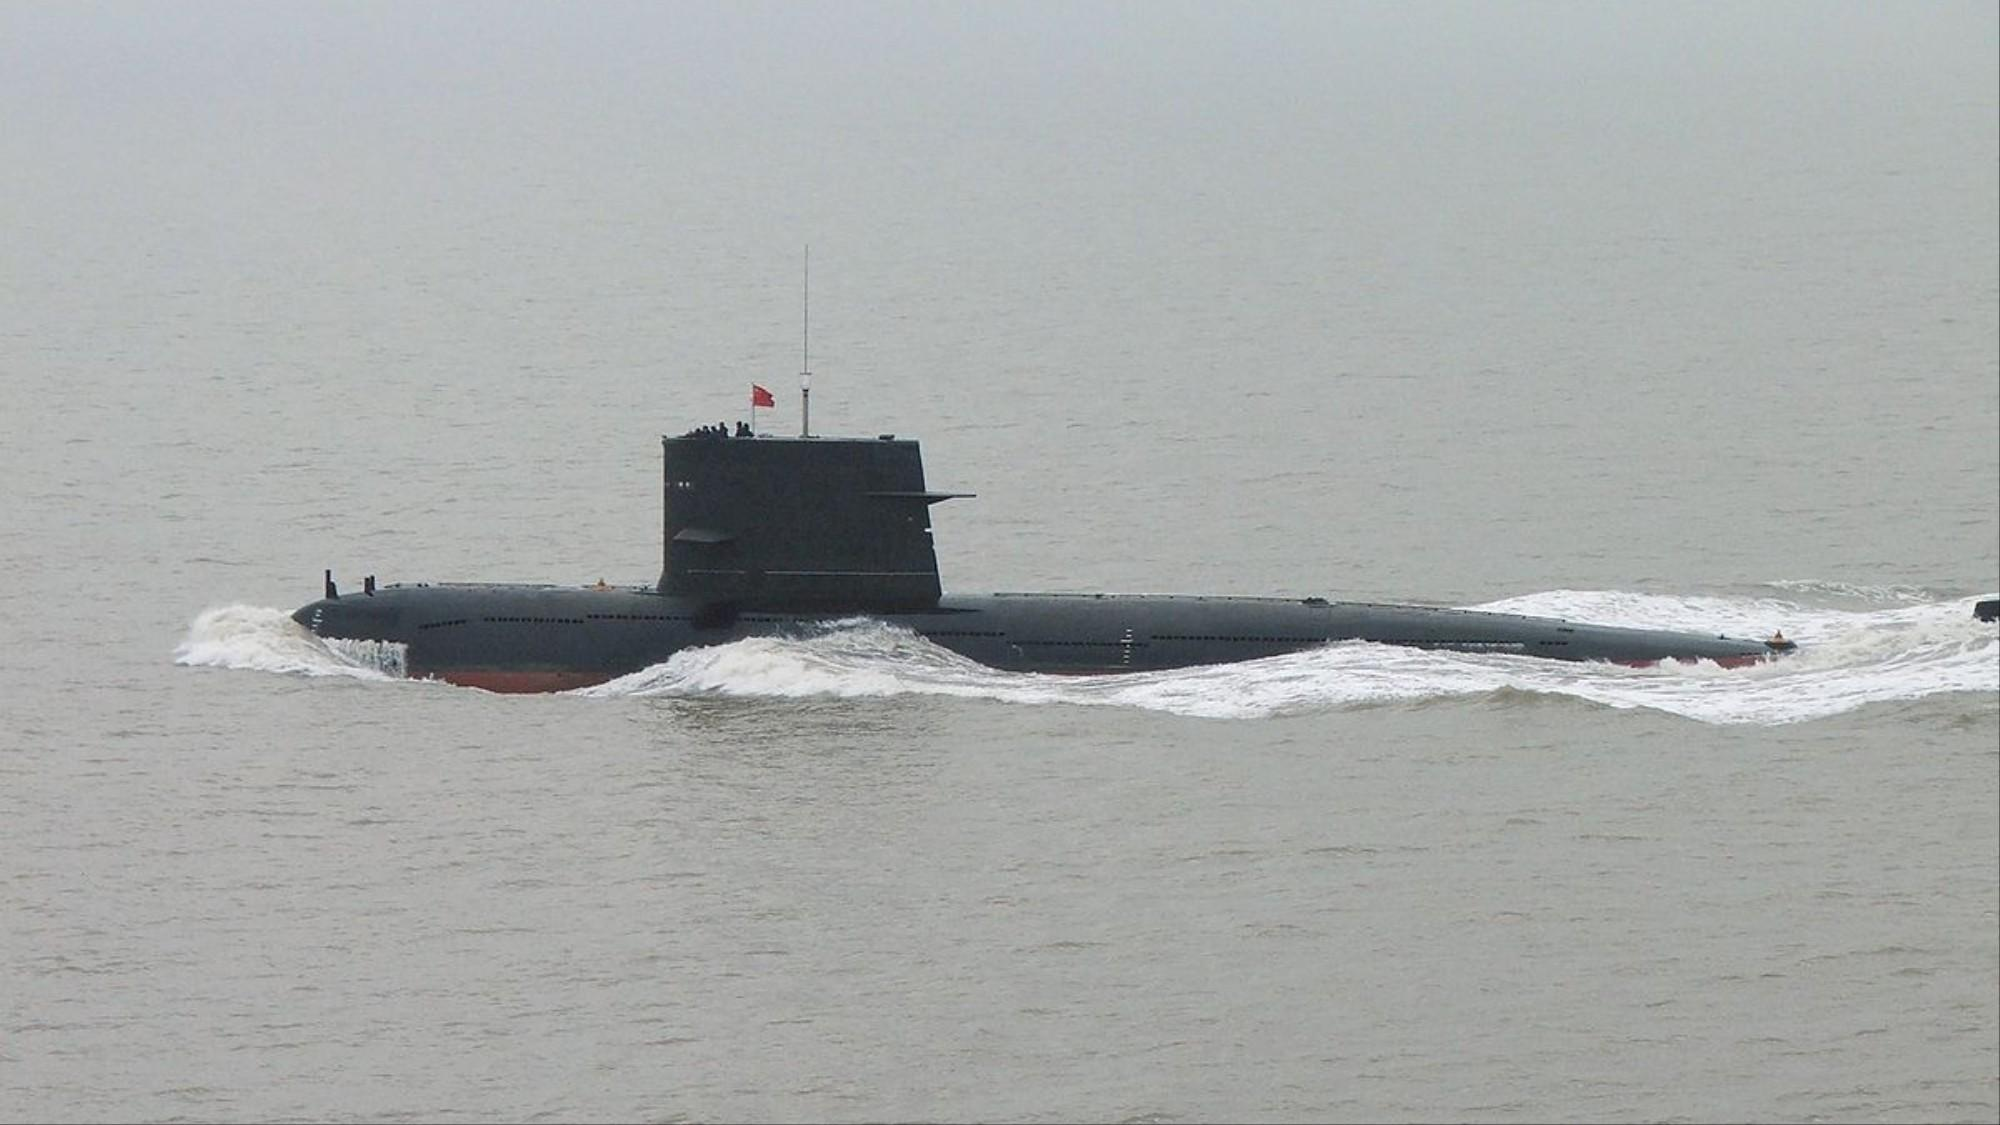Submarine: (220, 313, 1970, 826)
